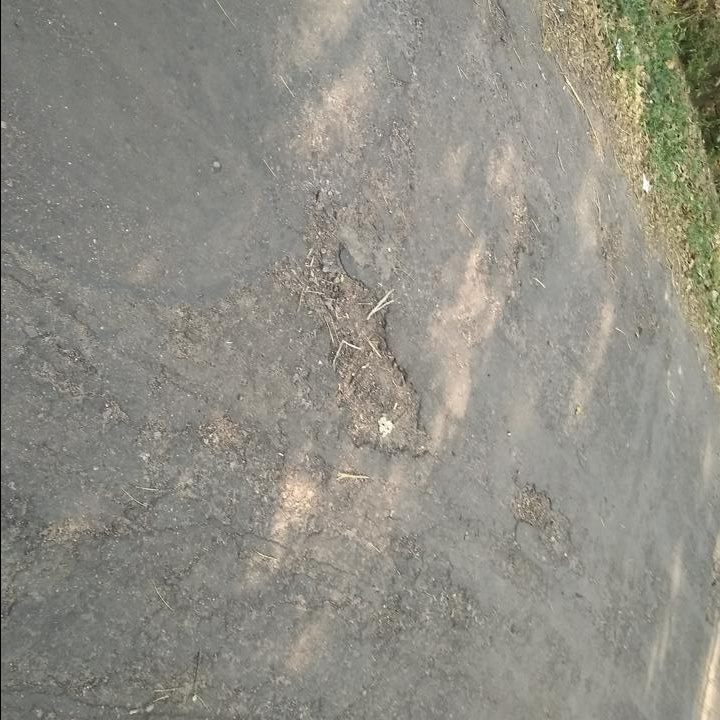pothole: (304, 225, 437, 461), (509, 478, 574, 560), (487, 0, 513, 48)
